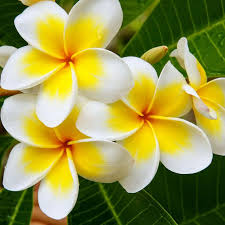frangipani: (2, 2, 131, 128)
